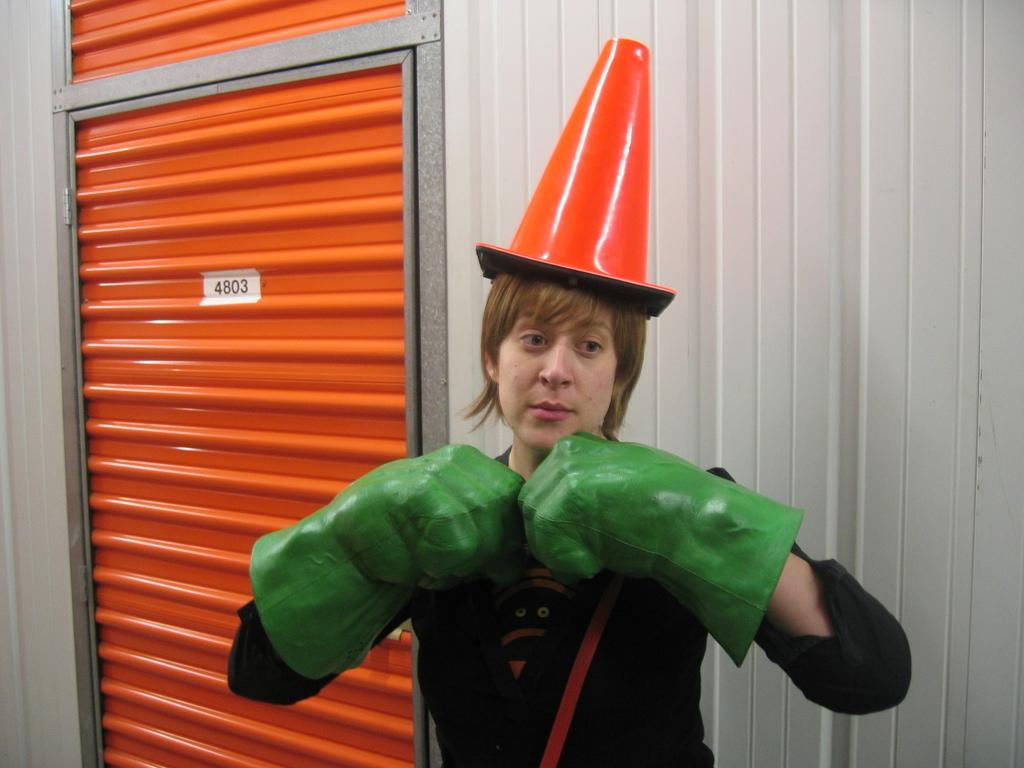Hat: (476, 38, 674, 320)
